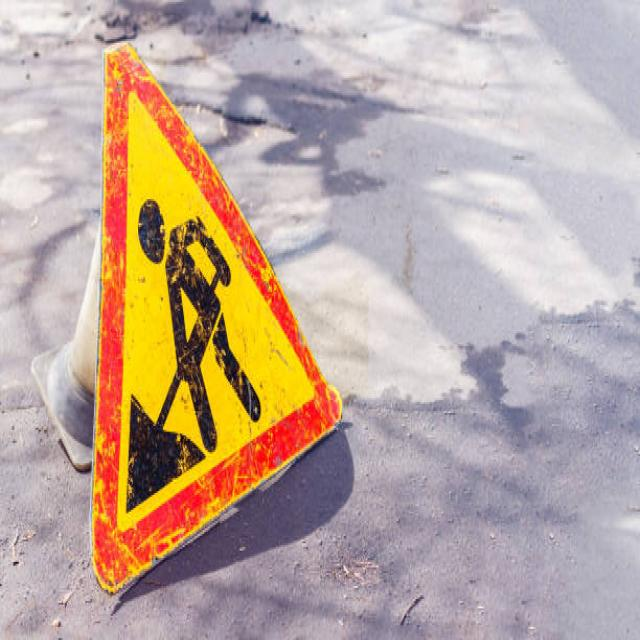road_work: (87, 36, 350, 597)
